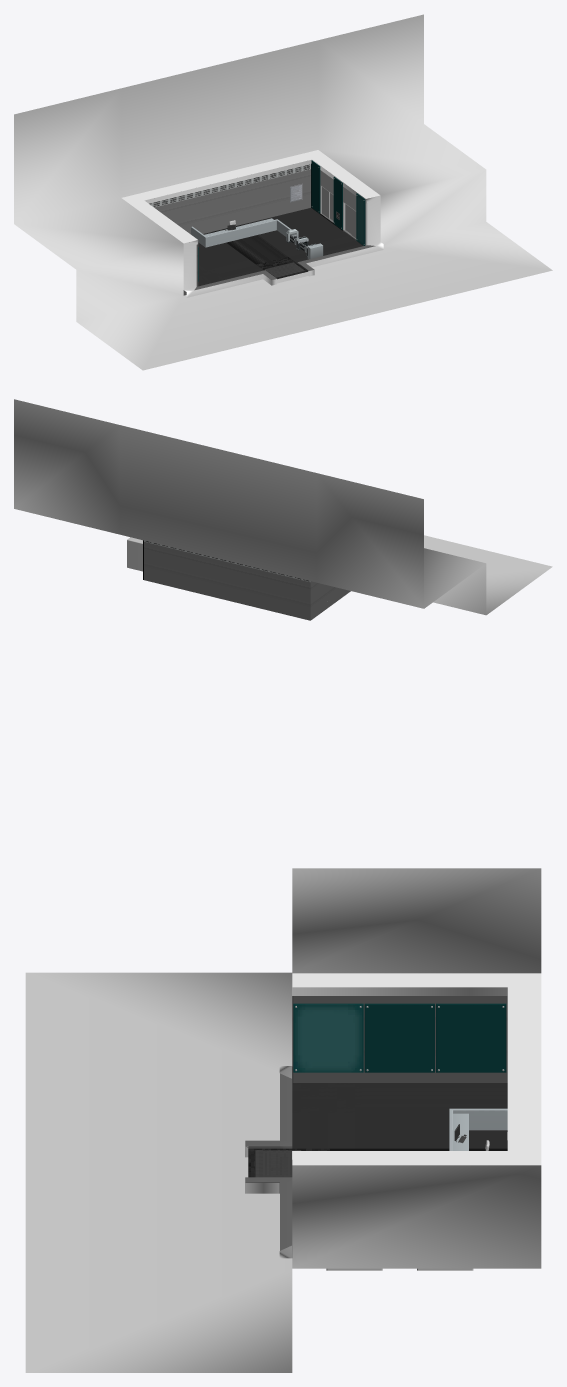
File: a_com_building_a02.gltf
3 renders of one model, top to bottom at view 1: azimuth 30°, elevation 25°; view 2: azimuth 150°, elevation 25°; view 3: azimuth 270°, elevation 25°, orthographic. The views are drawn at different scales.
Parts seen in each view (by area): view 1: a_com_building_a02_outsideblank01_mesh_shape:a_com_building_, um_a_com_building_a02_model_a_com_building_a02_modelShape:a_ (×10), nomerge_outside_edge_shape:mat_texture_edge02, a_com_building_a02_outsideroof01_mesh_shape:a_com_building_a; view 2: a_com_building_a02_outsideblank01_mesh_shape:a_com_building_, um_a_com_building_a02_model_a_com_building_a02_modelShape:a_ (×4); view 3: a_com_building_a02_outsideblank01_mesh_shape:a_com_building_, um_a_com_building_a02_model_a_com_building_a02_modelShape:a_ (×7), a_com_building_a02_outsideroof01_mesh_shape:a_com_building_a, nomerge_outside_edge_shape:mat_texture_edge02.
Boxes of the visible parts, left/top/right/bottom form: a_com_building_a02_outsideblank01_mesh_shape:a_com_building_: left=14, top=14, right=552, bottom=370; um_a_com_building_a02_model_a_com_building_a02_modelShape:a_ (×10): left=149, top=160, right=375, bottom=295; nomerge_outside_edge_shape:mat_texture_edge02: left=144, top=159, right=383, bottom=297; a_com_building_a02_outsideroof01_mesh_shape:a_com_building_a: left=122, top=150, right=379, bottom=243; a_com_building_a02_outsideblank01_mesh_shape:a_com_building_: left=14, top=399, right=552, bottom=615; um_a_com_building_a02_model_a_com_building_a02_modelShape:a_ (×4): left=127, top=537, right=350, bottom=620; a_com_building_a02_outsideblank01_mesh_shape:a_com_building_: left=25, top=868, right=541, bottom=1372; um_a_com_building_a02_model_a_com_building_a02_modelShape:a_ (×7): left=245, top=987, right=507, bottom=1257; a_com_building_a02_outsideroof01_mesh_shape:a_com_building_a: left=292, top=973, right=541, bottom=1165; nomerge_outside_edge_shape:mat_texture_edge02: left=245, top=987, right=507, bottom=1258.
Size of the model in its own units: 38.42 by 14.48 by 20.91.
21 materials, 18 textured.
